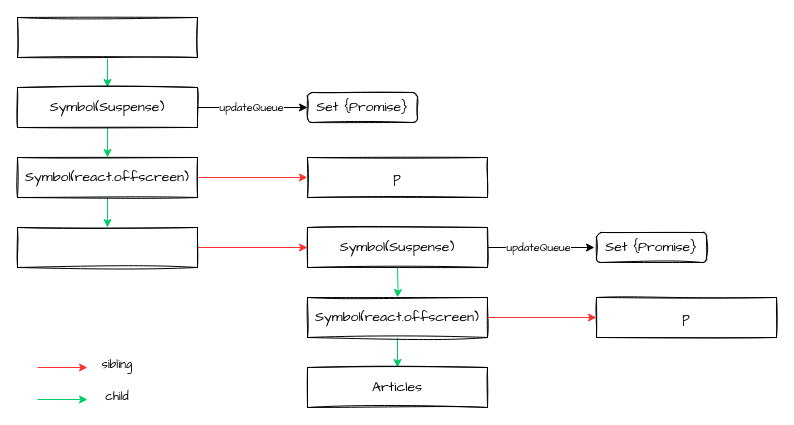
The diagram is 794 pixels wide and 425 high, and some of its shapes have lost their labels. The shapes that lost their labels are listed below. From the top down, each one's centre as x and y in pixels, then its label:
At point 107,37: "Profile".
At point 107,247: "User".
